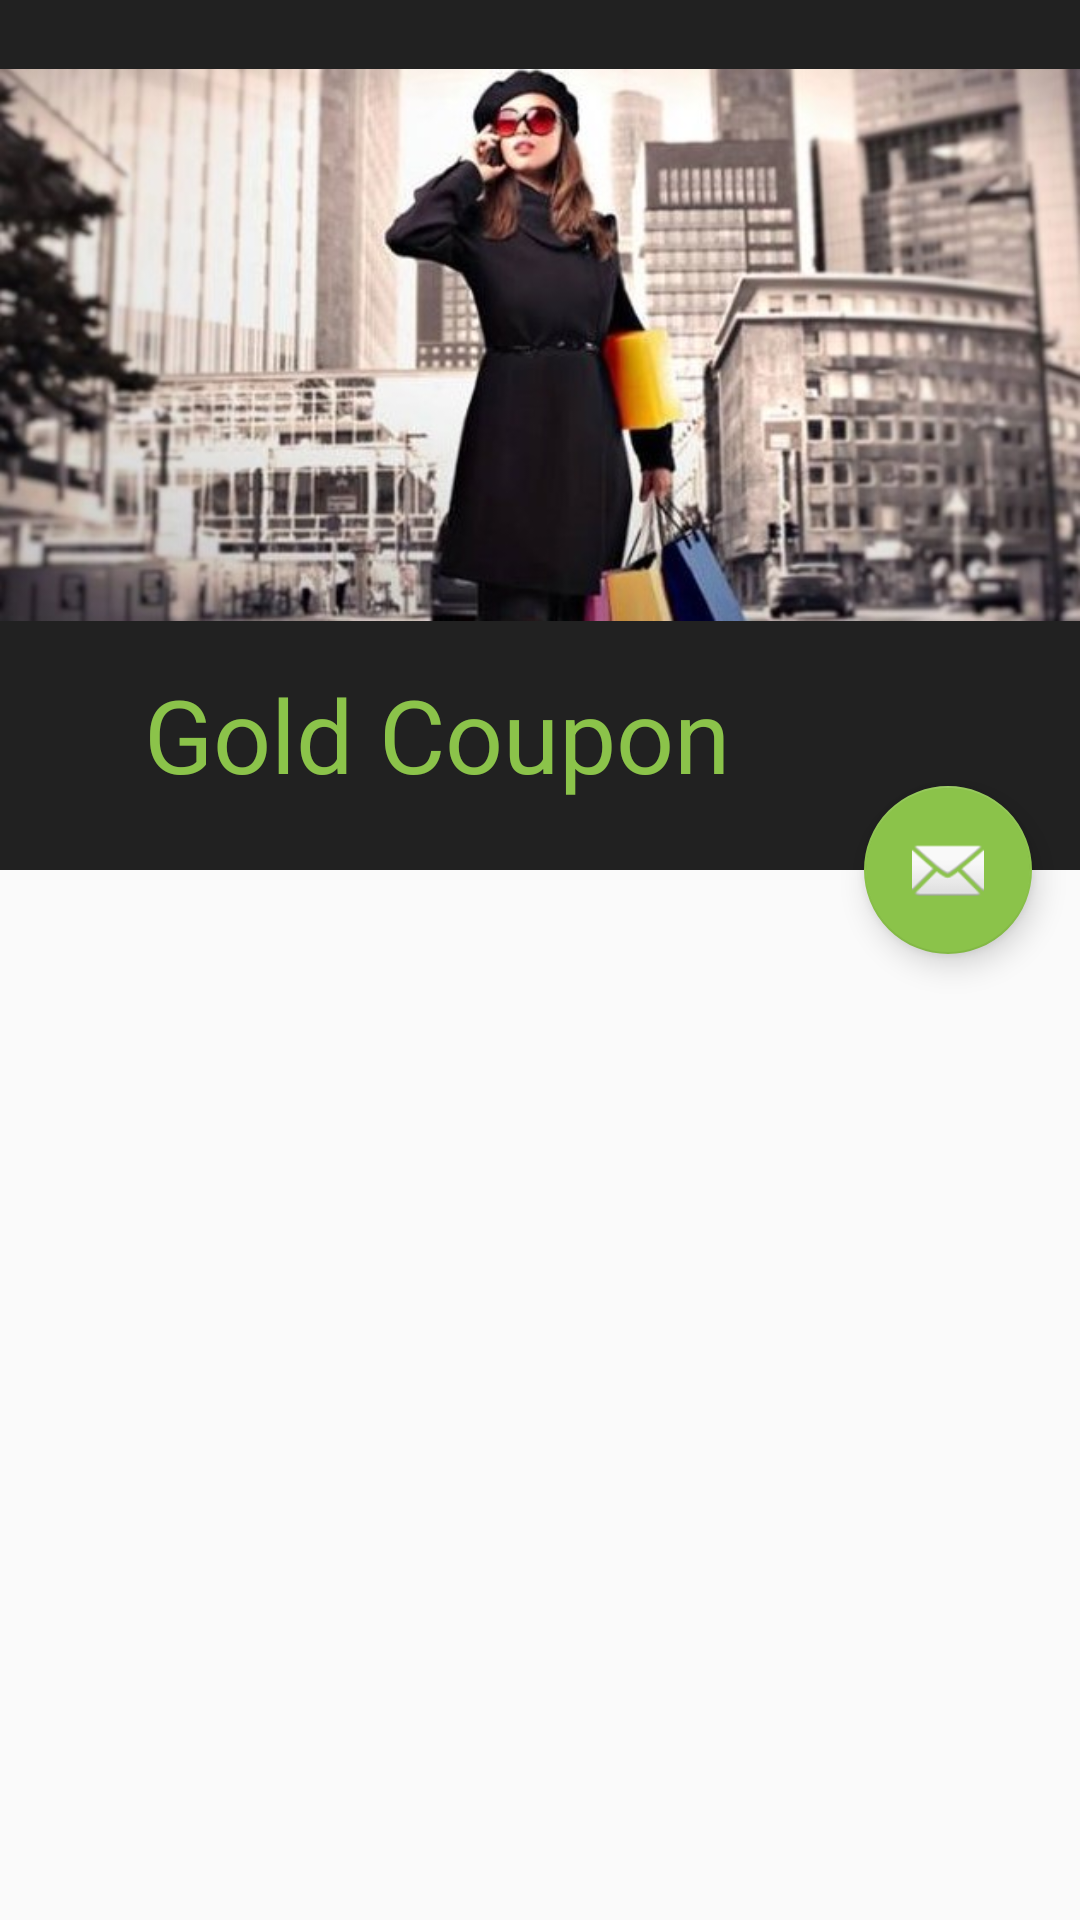

Icons on this 1080px x 1920px Android screen, each with the point to tap as [x,y]:
email: [948,870]
